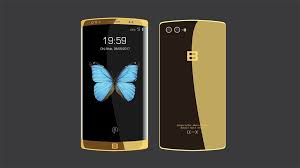bphone: (155, 16, 227, 155), (78, 14, 149, 153)
